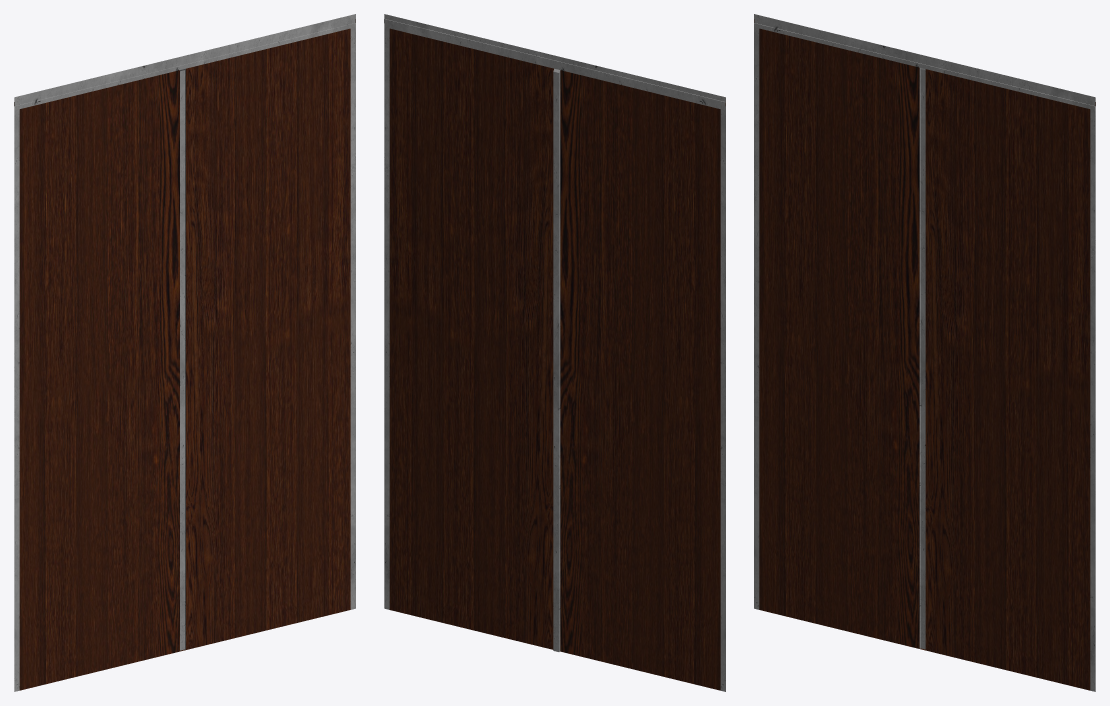
File: back_wall.glb
The picture shows the model from 3 angles, left to right: view 1: azimuth 30°, elevation 25°; view 2: azimuth 150°, elevation 25°; view 3: azimuth 330°, elevation 25°; orthographic projection.
Visible parts, largest first — view 1: mirror; view 2: mirror; view 3: mirror.
Part boxes in pixels (bbox=[...]): mirror: bbox=[14, 14, 355, 691]; mirror: bbox=[384, 14, 725, 691]; mirror: bbox=[754, 14, 1095, 691].
Size of the model in its own units: 12.02 by 20 by 0.061.
Materials: 2 (2 with a texture image).
